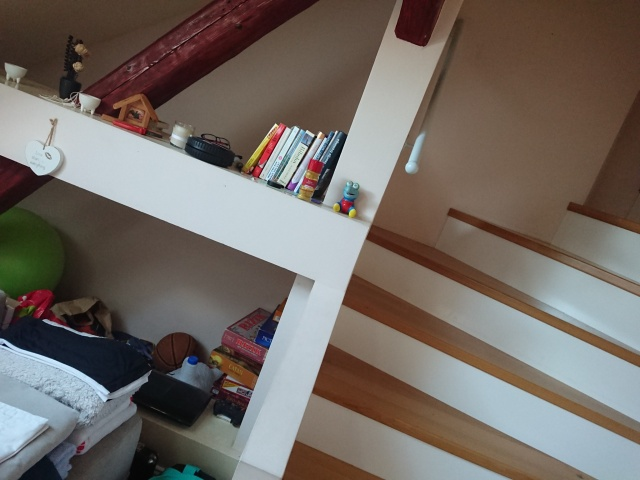Kotanyi Curry Spices Mix 70g: (293, 156, 327, 204)
